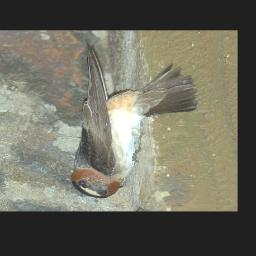Swallow: (69, 41, 198, 199)
